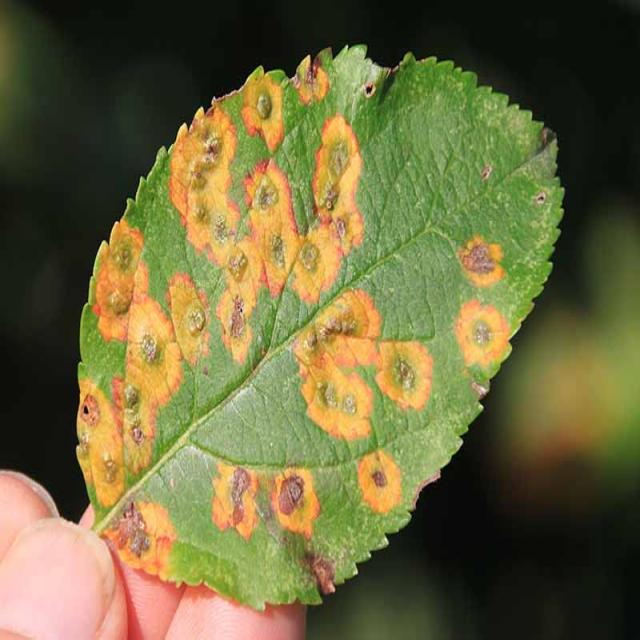leaf_spot: (77, 46, 562, 609)
